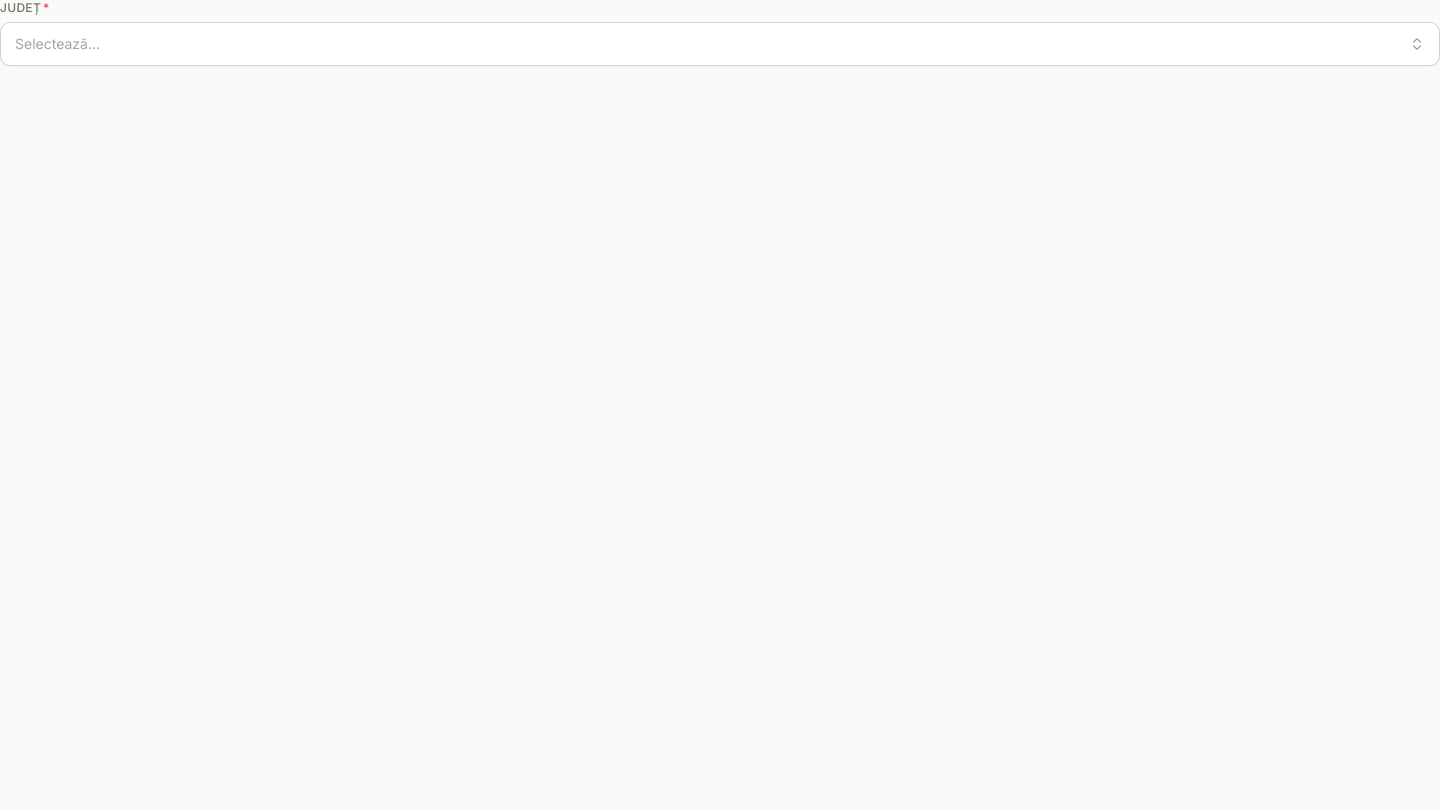
Scenario: shows the empty state for an unmatched search
Click the dropdown named "Județ" at [58, 44], box [0,22,1439,66]
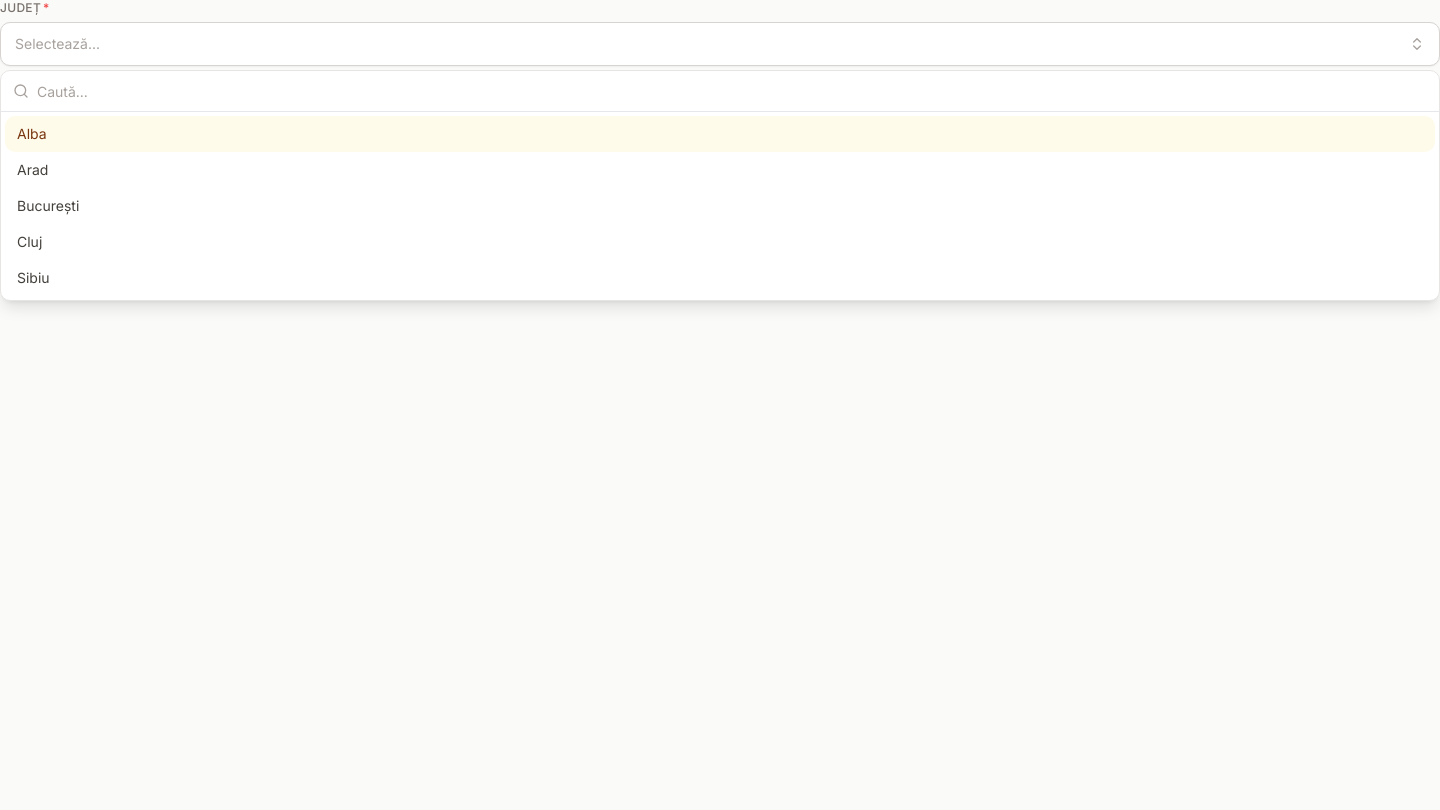
Type keys "zzzz"
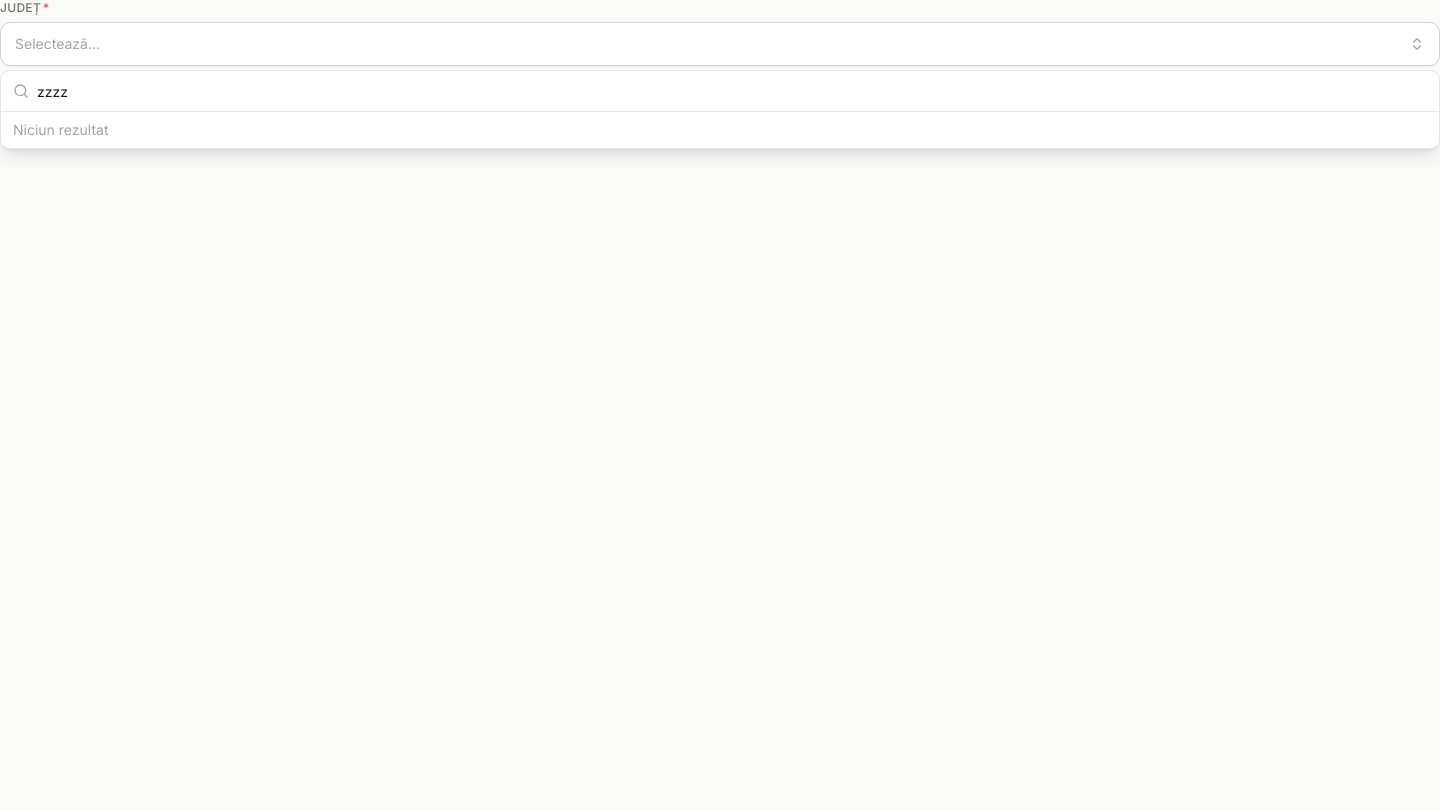
Now the text "Niciun rezultat" is shown, box [13,121,108,138]
